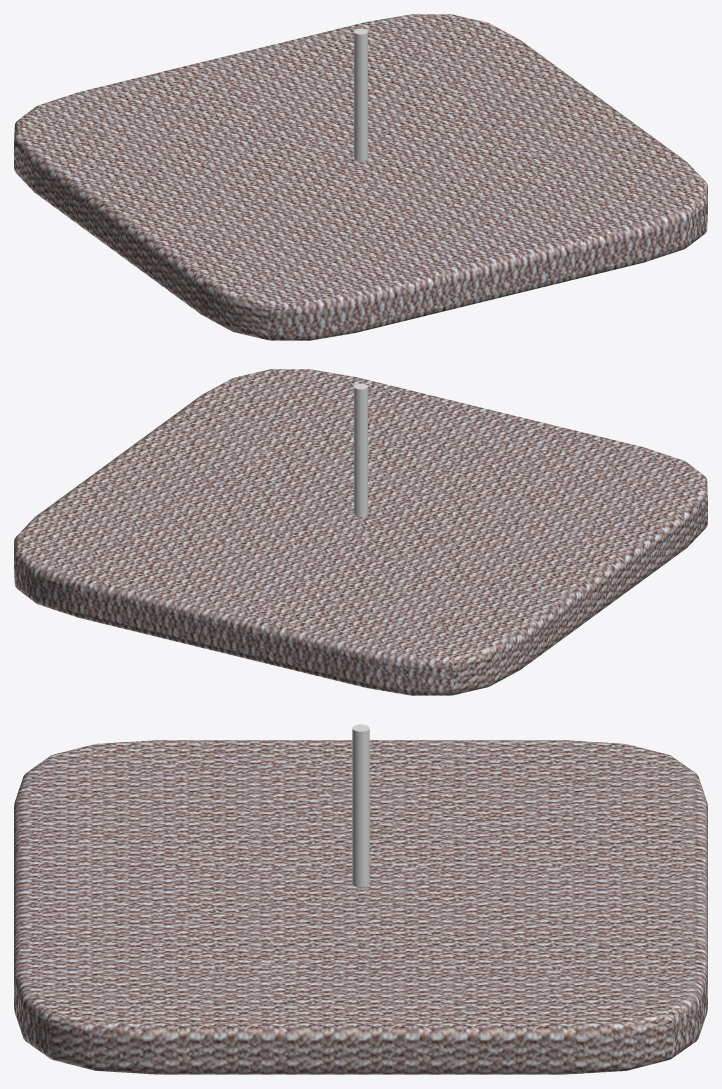
3 views of the same model, one above another, from view 1: azimuth 30°, elevation 25°; view 2: azimuth 150°, elevation 25°; view 3: azimuth 270°, elevation 25° (orthographic). The views are drawn at different scales.
Visible parts, largest first — view 1: Detail1, con1out; view 2: Detail1, con1out; view 3: Detail1, con1out.
Part boxes in pixels (<box>): Detail1: <box>14,14,707,340</box>; con1out: <box>354,28,367,161</box>; Detail1: <box>14,369,707,695</box>; con1out: <box>354,383,367,516</box>; Detail1: <box>14,740,707,1074</box>; con1out: <box>352,724,369,887</box>.
Size of the model in its own units: 0.4 by 0.1291 by 0.4.
Materials: 1 (1 with a texture image).
